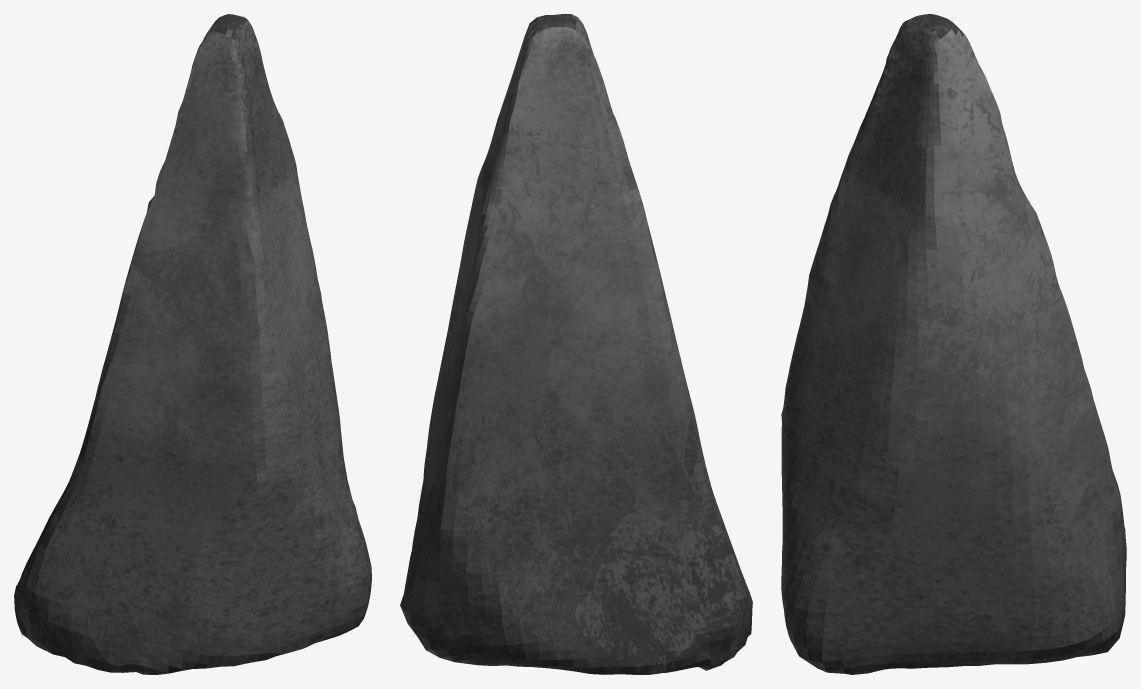
The model's file is stalagmites_rock_01.fbx.
3 renders of one model, left to right at view 1: azimuth 30°, elevation 25°; view 2: azimuth 150°, elevation 25°; view 3: azimuth 270°, elevation 25°, orthographic. The views are drawn at different scales.
Parts seen in each view (by area): view 1: Cube.002; view 2: Cube.002; view 3: Cube.002.
Part boxes in pixels (bbox=[...]): Cube.002: bbox=[14, 14, 371, 674]; Cube.002: bbox=[400, 14, 752, 674]; Cube.002: bbox=[781, 14, 1126, 674].
Size of the model in its own units: 200 by 398 by 202.
